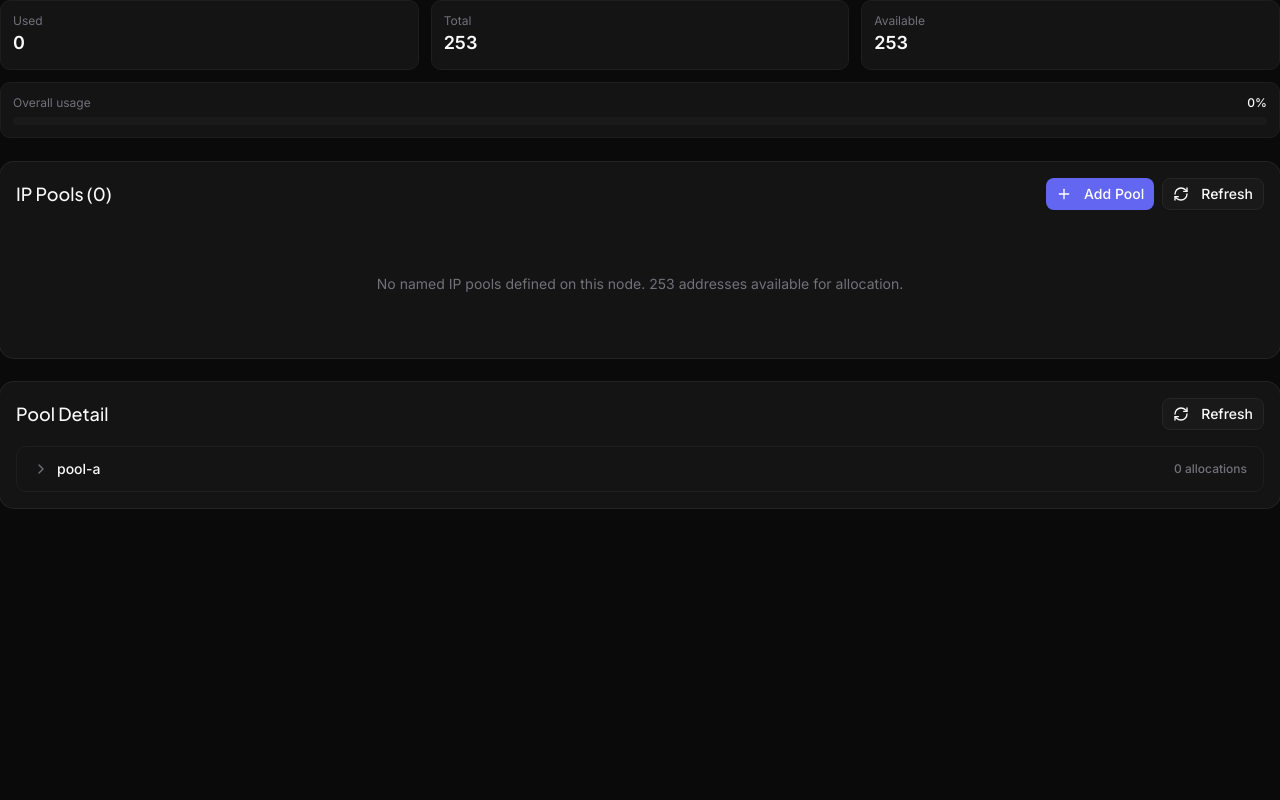
Test: IpPoolPage pool detail › shows empty message when expanded pool has zero items
Check: the text "0 allocations" is shown, box [1174,461,1247,477]
What coordinates should you click on to do the following:
click the text "pool-a"
I would click on:
 (79, 469)
Its box is [57,459,100,479].
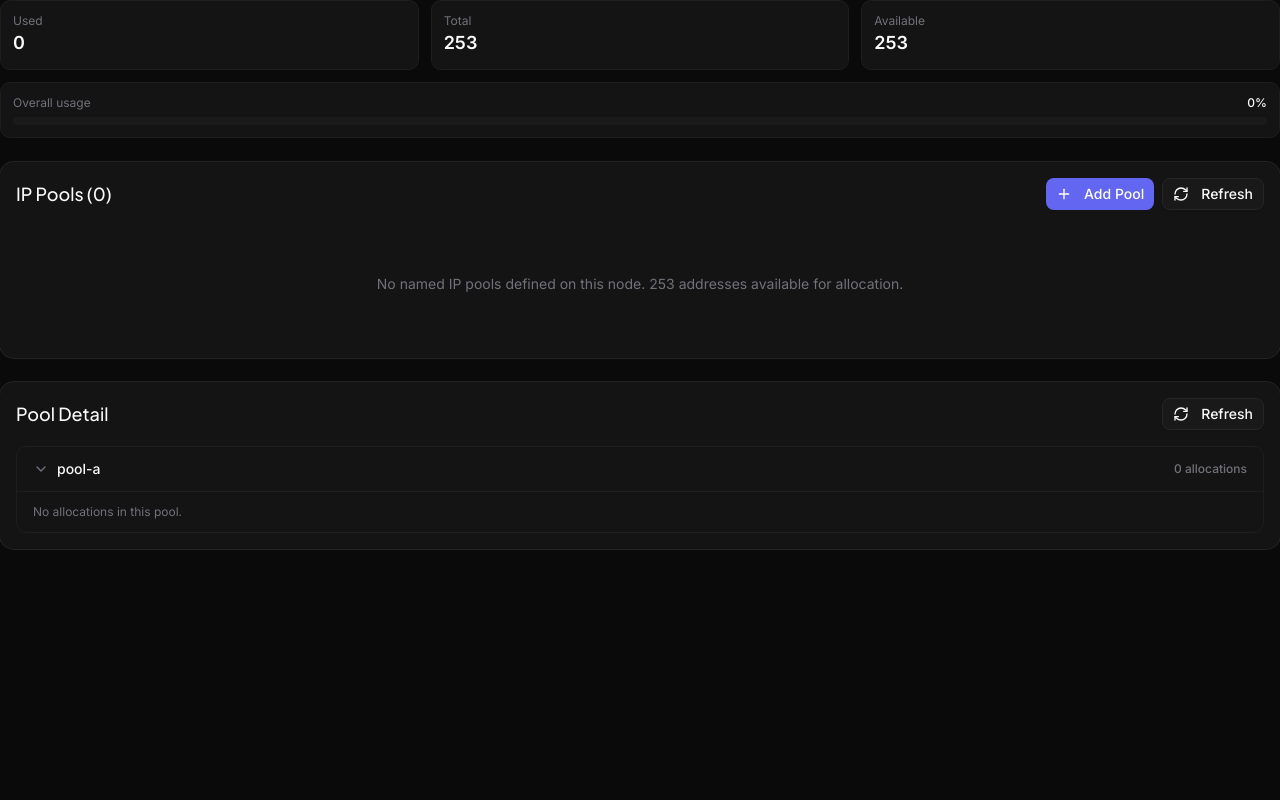
Check: the text "No allocations in this pool." is shown, box [17,491,1263,532]
